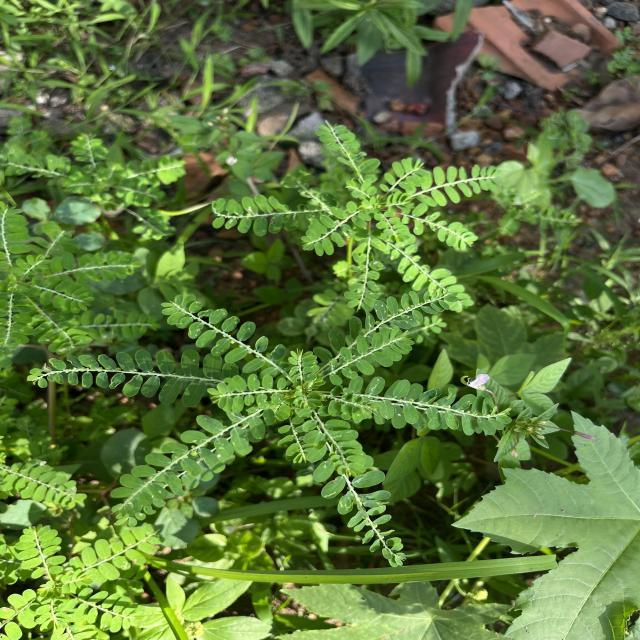Phyllanthus niruri: (108, 414, 264, 516), (336, 376, 522, 437), (158, 292, 282, 374), (71, 522, 166, 584), (298, 406, 372, 476), (328, 324, 416, 382), (394, 201, 479, 250), (296, 203, 371, 257), (210, 192, 296, 236), (318, 118, 378, 180), (419, 162, 512, 202), (208, 376, 292, 410), (370, 210, 412, 240)
